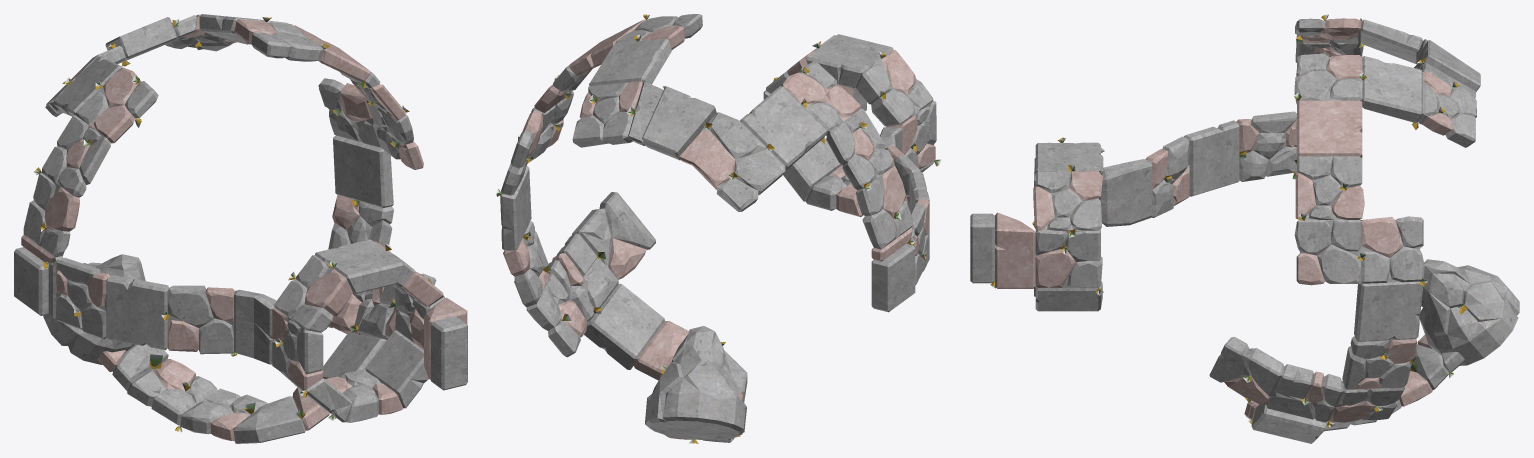
The model's file is OnimasuPlanetPartsGoal_bake.dae.
3 renders of one model, left to right at view 1: azimuth 30°, elevation 25°; view 2: azimuth 150°, elevation 25°; view 3: azimuth 270°, elevation 25°, orthographic. The views are drawn at different scales.
Visible parts, largest first — view 1: m1, m2, m0, m0_VC; view 2: m1, m2, m0, m0_VC; view 3: m1, m2, m0, m0_VC.
Part boxes in pixels (x1,y1,x2,y2): m1: [14, 14, 467, 443]; m2: [21, 14, 467, 441]; m0: [34, 17, 431, 431]; m0_VC: [33, 17, 406, 432]; m1: [500, 14, 936, 442]; m2: [503, 19, 935, 439]; m0: [496, 14, 939, 443]; m0_VC: [496, 14, 941, 443]; m1: [970, 18, 1519, 443]; m2: [995, 18, 1453, 422]; m0: [990, 15, 1467, 426]; m0_VC: [993, 14, 1465, 427].
Bounding box in the file's own units: 5151 × 5134 × 6730.
Materials: 4 (4 with a texture image).
